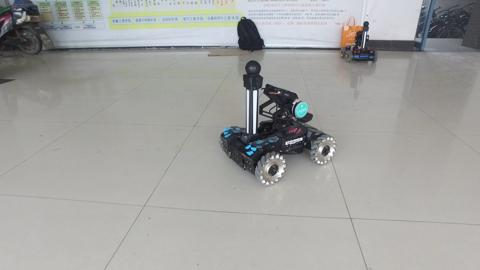bag: (235, 15, 267, 52), (341, 15, 363, 51)
chariot: (217, 58, 337, 186), (339, 20, 378, 64)
